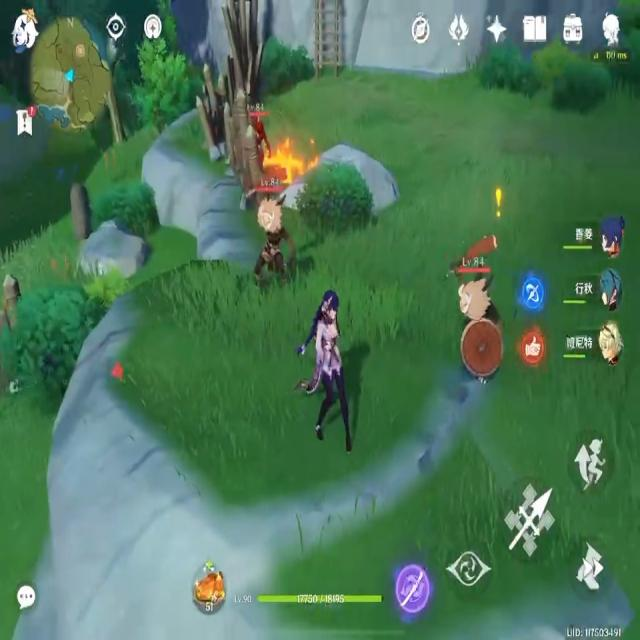genshin-hilichurls: (438, 217, 502, 392), (246, 173, 292, 282), (251, 102, 270, 168)
